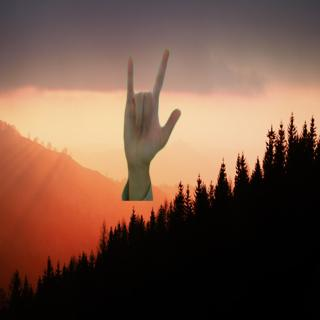ILY: (119, 47, 183, 170)
